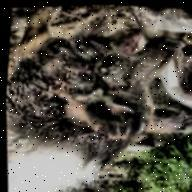boar: (0, 10, 192, 192)
